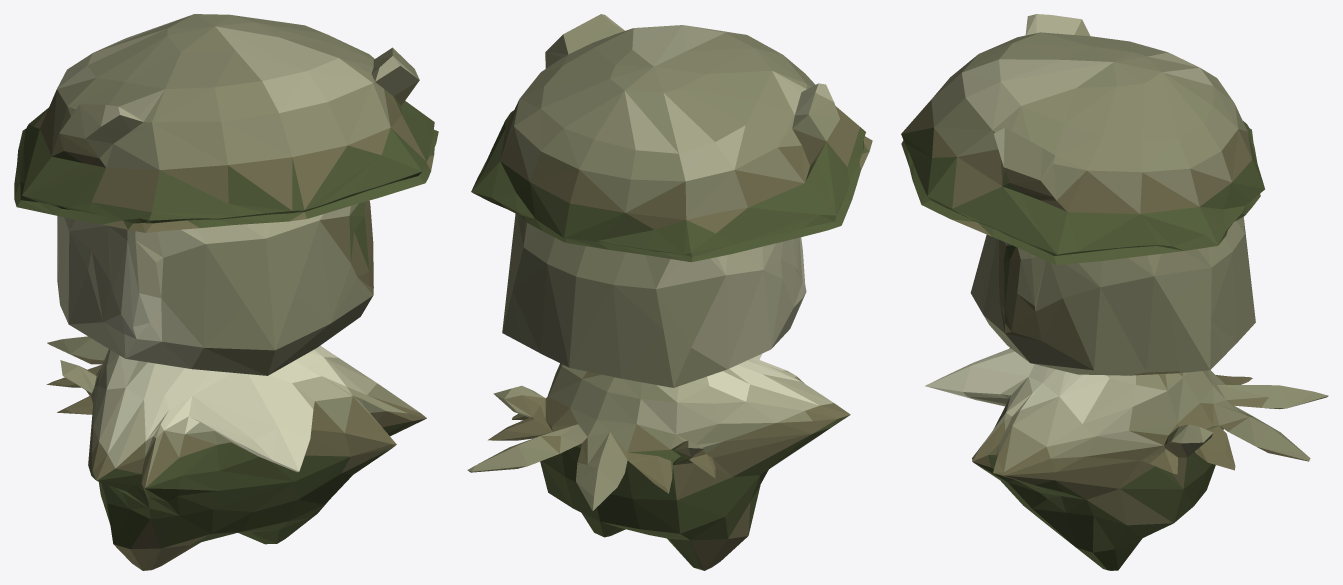
The model's file is tripo-creature-34.glb.
The picture shows the model from 3 angles, left to right: view 1: azimuth 30°, elevation 25°; view 2: azimuth 150°, elevation 25°; view 3: azimuth 270°, elevation 25°; orthographic projection. The views are drawn at different scales.
Visible parts, largest first — view 1: Body; view 2: Body; view 3: Body.
Part boxes in pixels (<box>): Body: <box>14,14,438,570</box>; Body: <box>467,14,872,570</box>; Body: <box>901,14,1328,570</box>.
Size of the model in its own units: 0.6195 by 0.8 by 0.6372.
